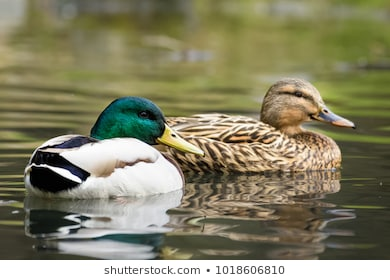duck: (12, 81, 217, 223), (179, 66, 363, 192)
